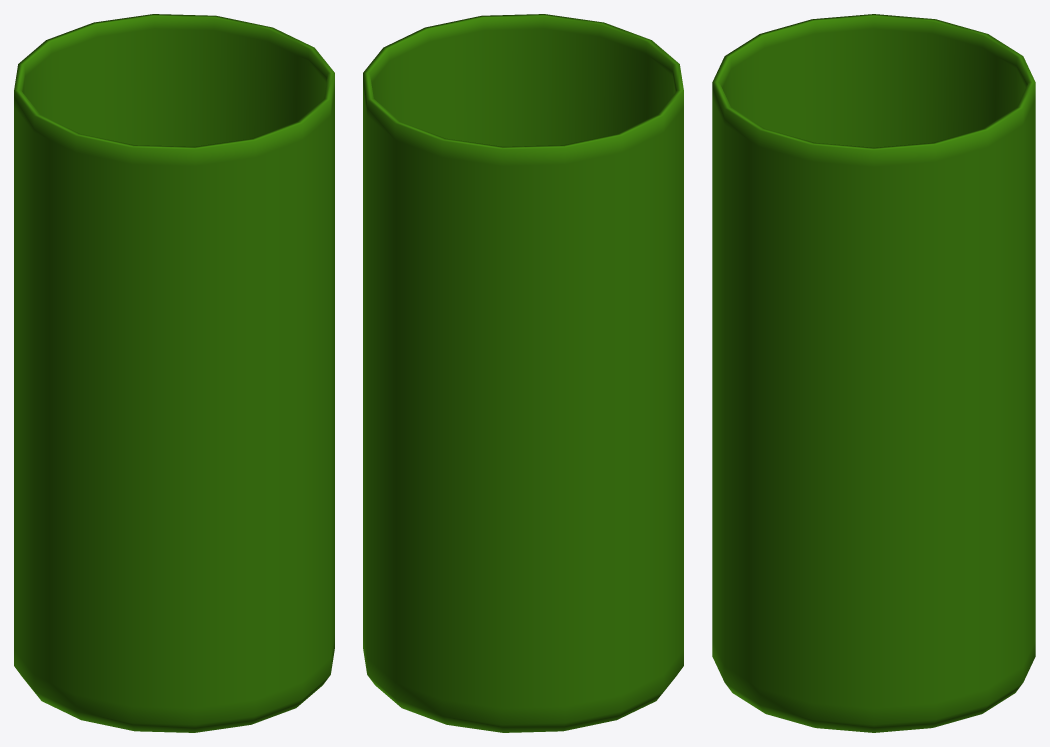
3 renders of one model, left to right at view 1: azimuth 30°, elevation 25°; view 2: azimuth 150°, elevation 25°; view 3: azimuth 270°, elevation 25°, orthographic.
Visible parts, largest first — view 1: DOF_Glassware; view 2: DOF_Glassware; view 3: DOF_Glassware.
Part boxes in pixels (x1,y1,x2,y2): DOF_Glassware: [14, 14, 334, 732]; DOF_Glassware: [363, 14, 683, 732]; DOF_Glassware: [712, 14, 1035, 732].
Bounding box in the file's own units: 0.3 × 0.6 × 0.3.
